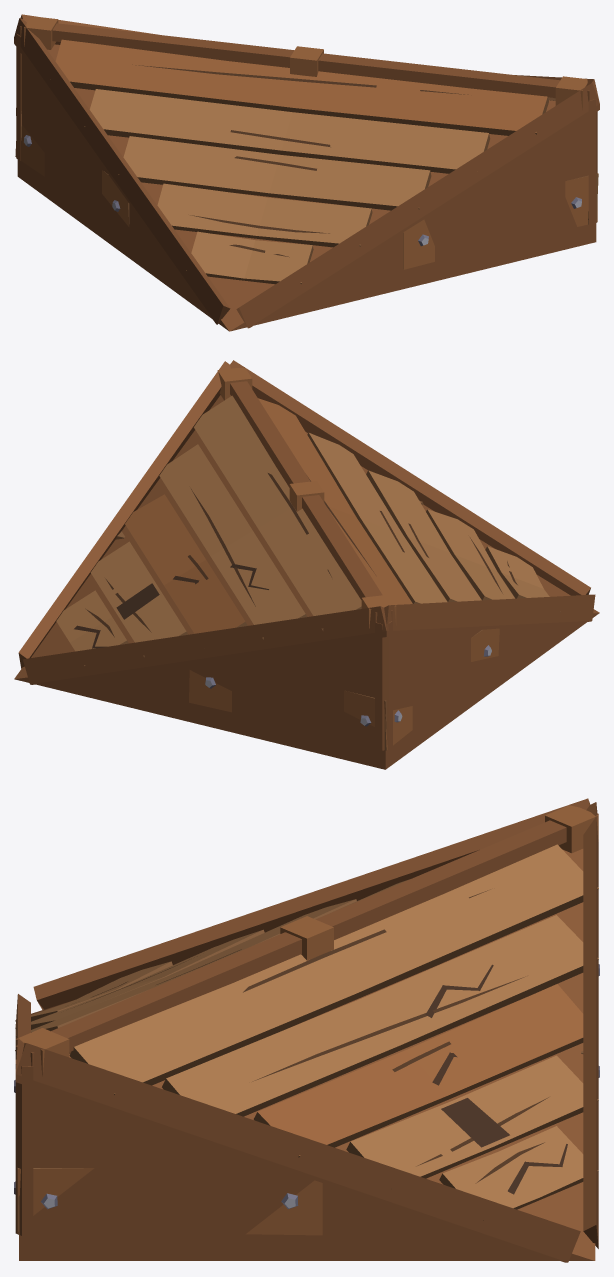
File: cone_plank_ridge_crack2.glb
The picture shows the model from 3 angles, top to bottom: view 1: azimuth 30°, elevation 25°; view 2: azimuth 150°, elevation 25°; view 3: azimuth 270°, elevation 25°; orthographic projection. The views are drawn at different scales.
Parts seen in each view (by area): view 1: Body; view 2: Body; view 3: Body.
Part boxes in pixels (x1,y1,x2,y2): Body: [14, 14, 599, 331]; Body: [14, 360, 599, 769]; Body: [14, 798, 599, 1262].
Size of the model in its own units: 4.01 by 1.65 by 4.01.
